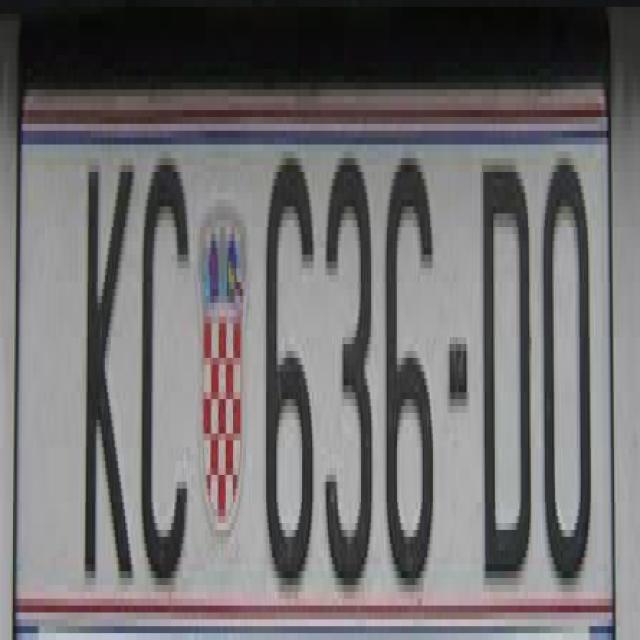Autre: (21, 86, 619, 616)
